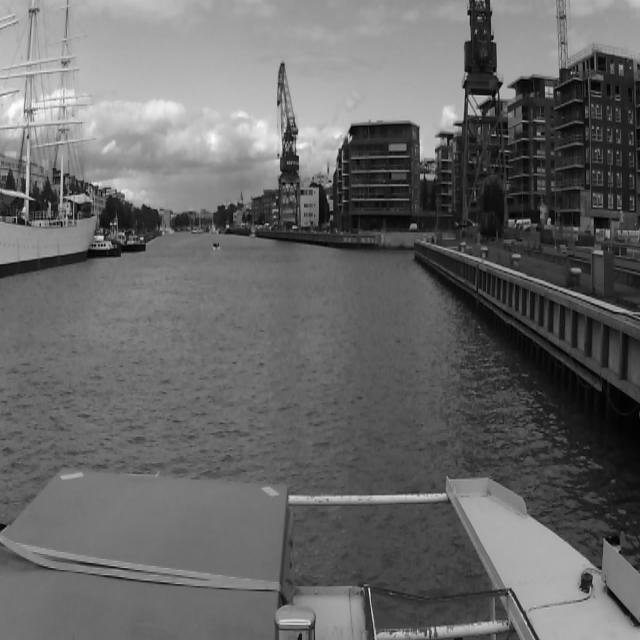ship: (0, 0, 102, 278), (86, 237, 122, 263), (126, 232, 148, 256), (210, 239, 222, 255)
